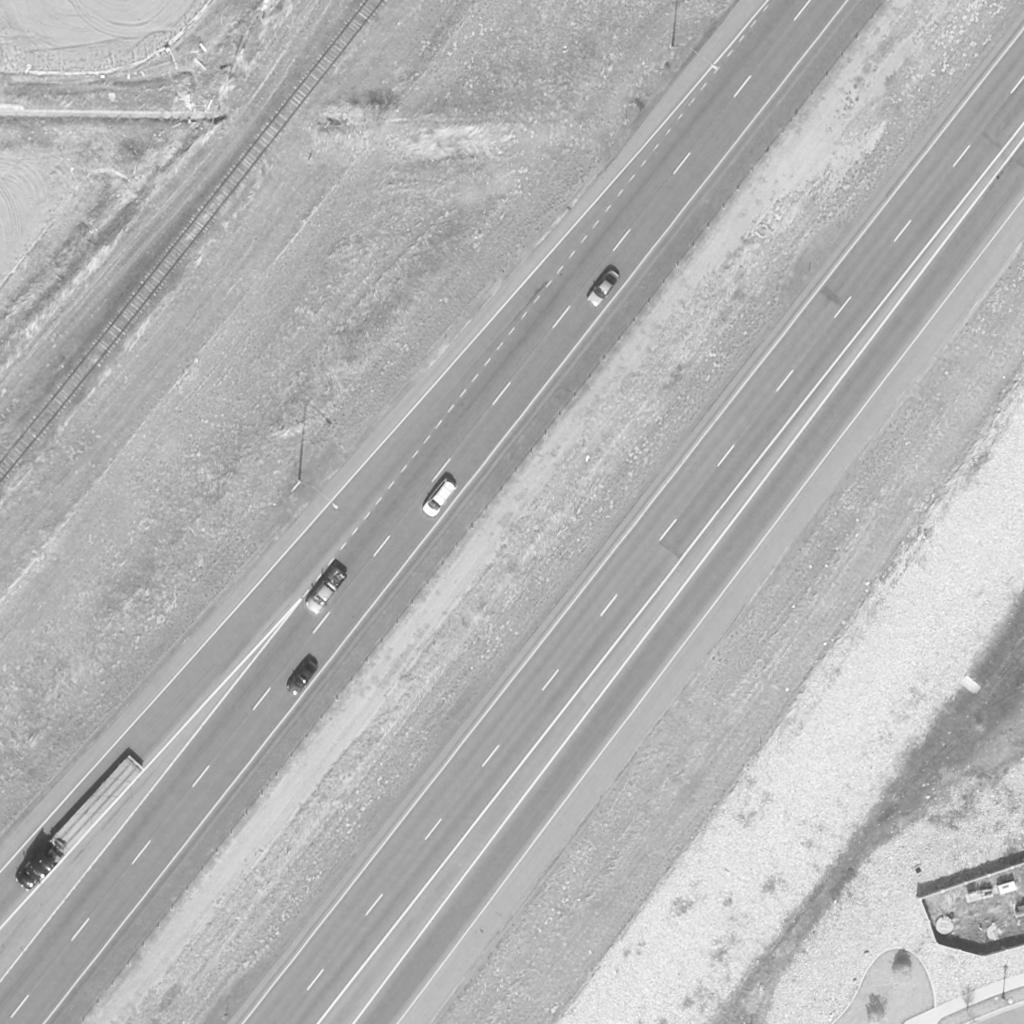vehicle: (14, 756, 142, 892), (303, 565, 349, 615), (418, 478, 460, 520), (585, 269, 621, 309), (286, 658, 320, 698)
